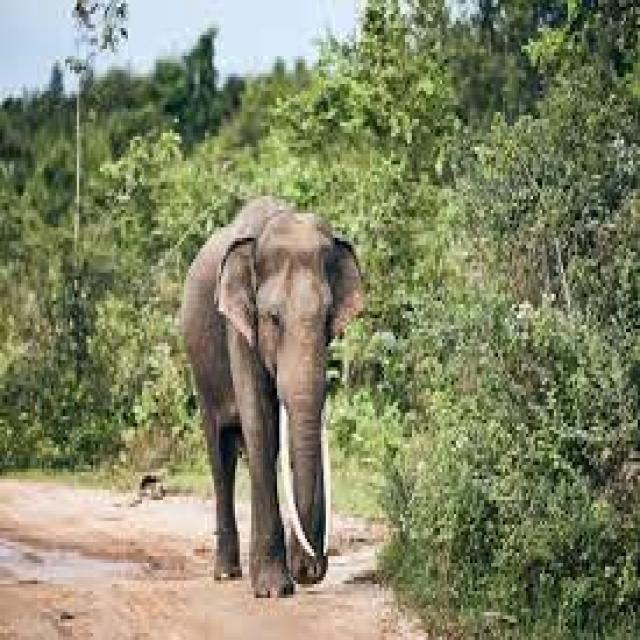Elephant: (178, 175, 355, 592)
